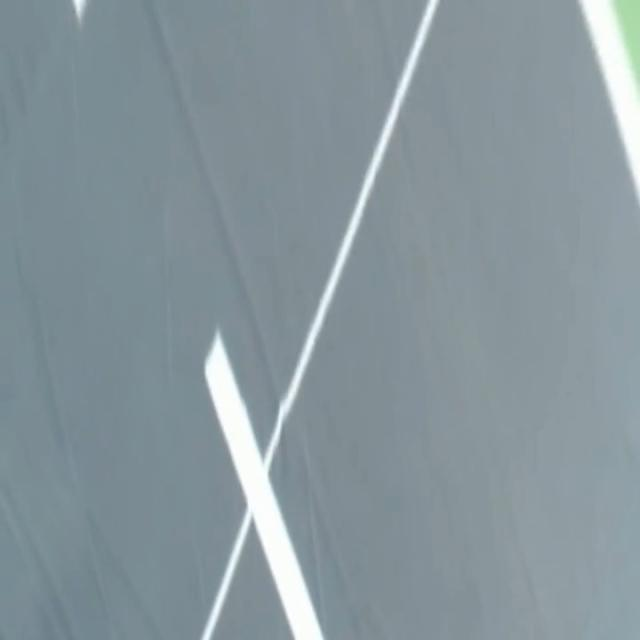center: (204, 334, 320, 639), (73, 0, 85, 20)
